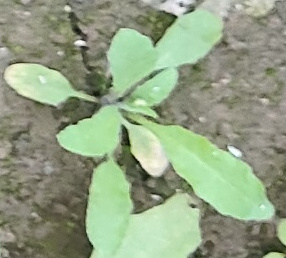马蹄金: (15, 14, 257, 248), (108, 206, 187, 257)
